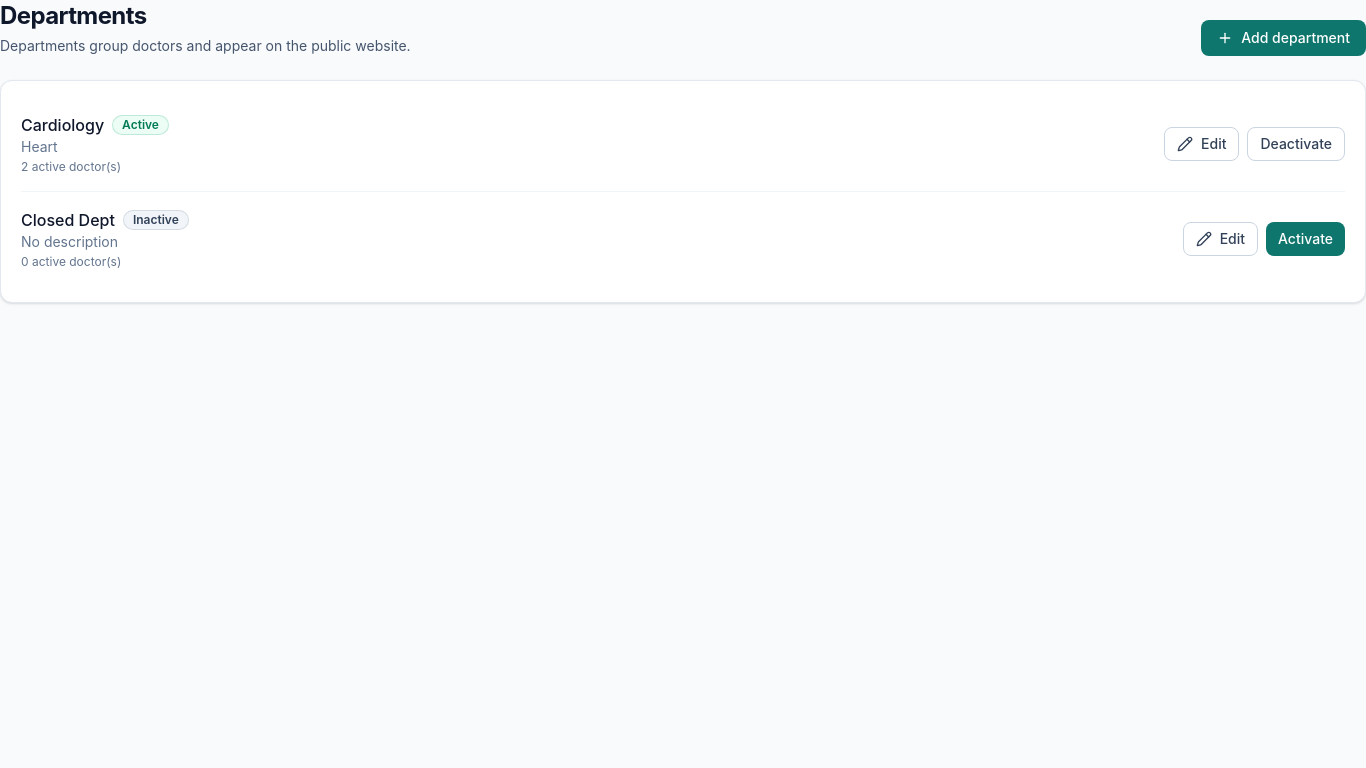
Test case: Departments admin › shows a duplicate-name error inside the create dialog
Check: the text "Cardiology" is shown, box left=21, top=113, right=104, bottom=137
Click the button "Add department": (1284, 38) left=1201, top=20, right=1365, bottom=56
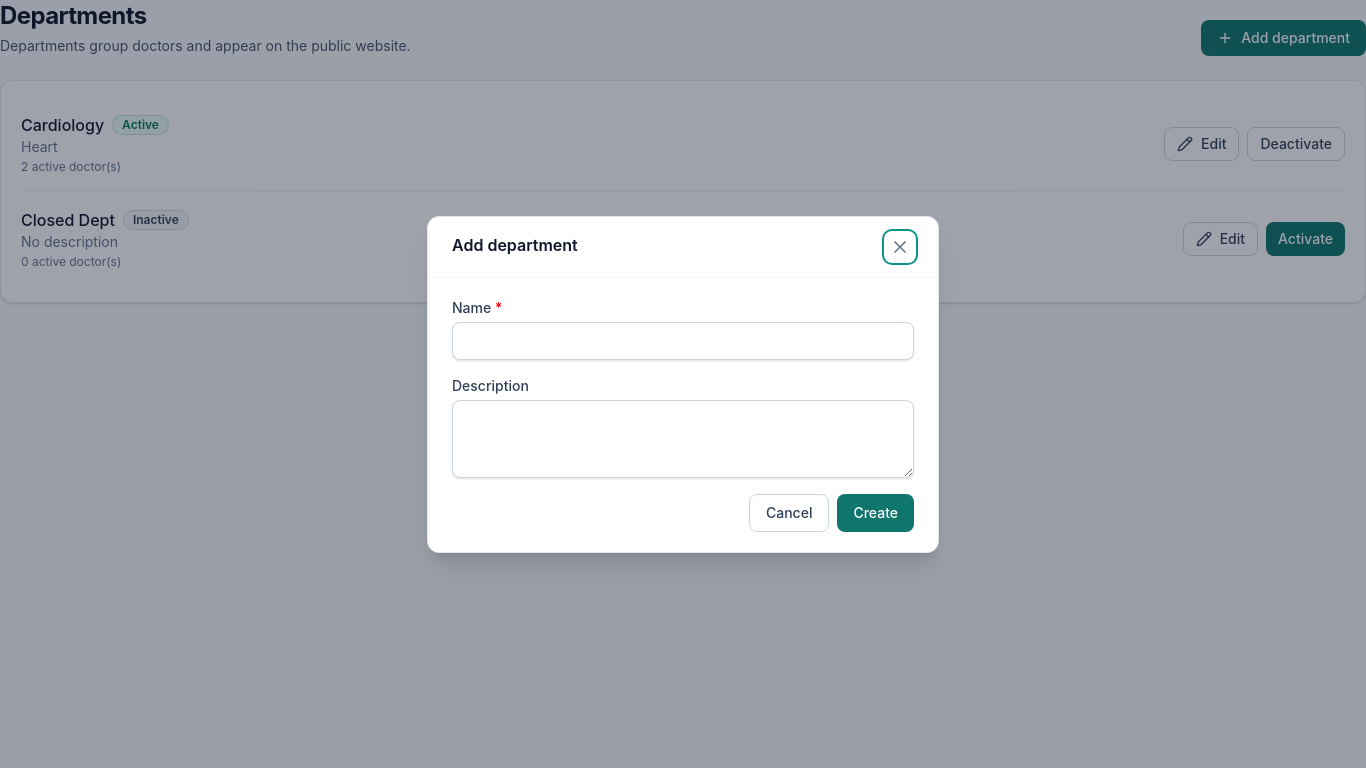
In the field labelled "Name *": (683, 340) left=452, top=322, right=914, bottom=360, type "Cardiology"
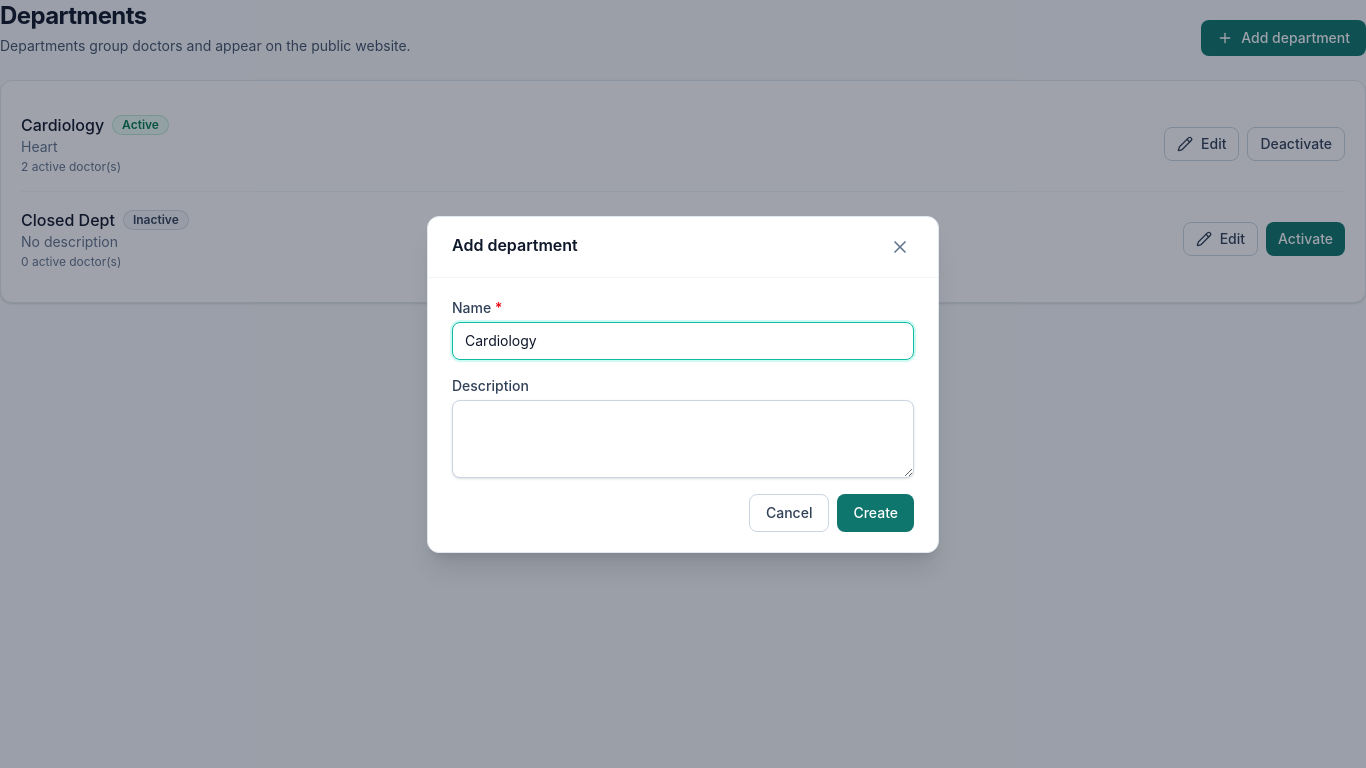
Click the button "Create": (876, 512) left=837, top=494, right=914, bottom=532
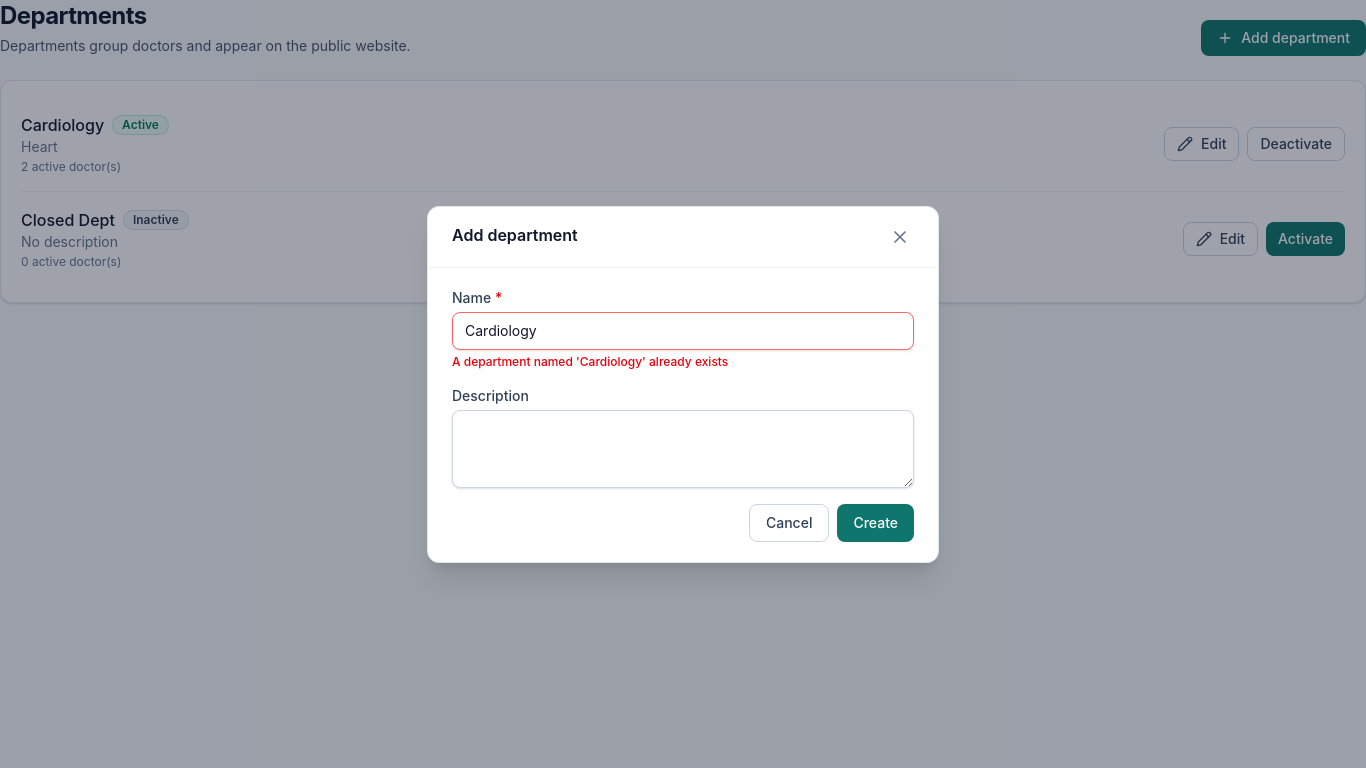
Check: the text "A department named 'Cardiology' already exists" is shown, box left=452, top=354, right=728, bottom=368
